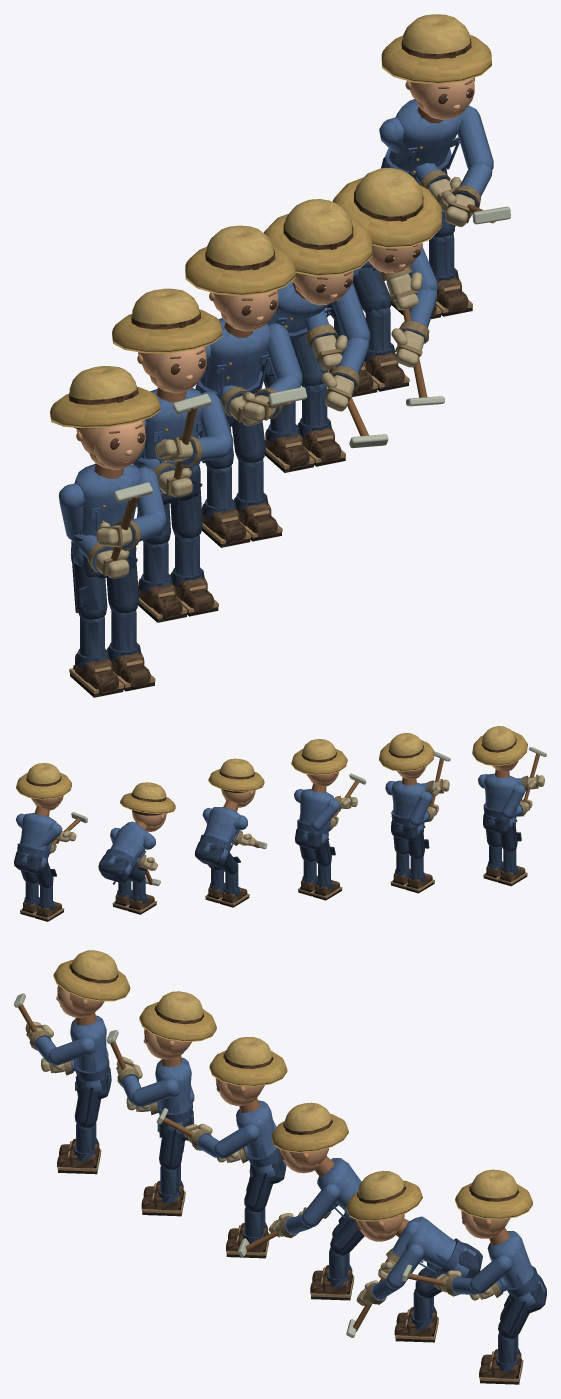
The model's file is ba-hoe-tq-before.glb.
3 views of the same model, one above another, from view 1: azimuth 30°, elevation 25°; view 2: azimuth 150°, elevation 25°; view 3: azimuth 270°, elevation 25° (orthographic). The views are drawn at different scales.
Visible parts, largest first — view 1: strawHat (×6), denimJacketTorso (×5), leftShin (×6), head (×6), rightShin (×4), leftHandMesh (×6), leftUpperArm (×5), leftThigh (×5), rightHandMesh (×4), rightThigh, rightUpperArm, leftLowerArm; view 2: strawHat (×6), denimJacketTorso (×6), rightShin (×6), leftShin (×6), trouserHips (×6), rightUpperArm (×5), rightThigh (×5), head (×4), leftHandMesh (×2); view 3: strawHat (×6), denimJacketTorso (×6), leftShin (×6), leftUpperArm (×6), head (×6), leftThigh (×5).
Part boxes in pixels (x1,y1,x2,y2): strawHat (×6): [50, 14, 491, 428]; denimJacketTorso (×5): [71, 99, 462, 566]; leftShin (×6): [107, 233, 472, 691]; head (×6): [74, 77, 474, 469]; rightShin (×4): [69, 401, 314, 697]; leftHandMesh (×6): [96, 185, 480, 550]; leftUpperArm (×5): [137, 105, 493, 527]; leftThigh (×5): [106, 268, 392, 613]; rightHandMesh (×4): [87, 266, 422, 578]; rightThigh: [71, 553, 107, 619]; rightUpperArm: [58, 483, 84, 539]; leftLowerArm: [332, 338, 369, 389]; strawHat (×6): [16, 726, 527, 813]; denimJacketTorso (×6): [17, 769, 518, 876]; rightShin (×6): [34, 849, 527, 921]; leftShin (×6): [20, 845, 503, 917]; trouserHips (×6): [14, 812, 517, 884]; rightUpperArm (×5): [34, 783, 525, 849]; rightThigh (×5): [35, 822, 521, 887]; head (×4): [31, 771, 338, 831]; leftHandMesh (×2): [426, 774, 544, 795]; strawHat (×6): [53, 950, 532, 1221]; denimJacketTorso (×6): [70, 1013, 544, 1307]; leftShin (×6): [57, 1123, 521, 1384]; leftUpperArm (×6): [48, 1037, 512, 1293]; head (×6): [56, 985, 510, 1241]; leftThigh (×5): [74, 1087, 529, 1338].
Size of what is drawn, in the model's own units: 5.94 by 2.41 by 5.51.
